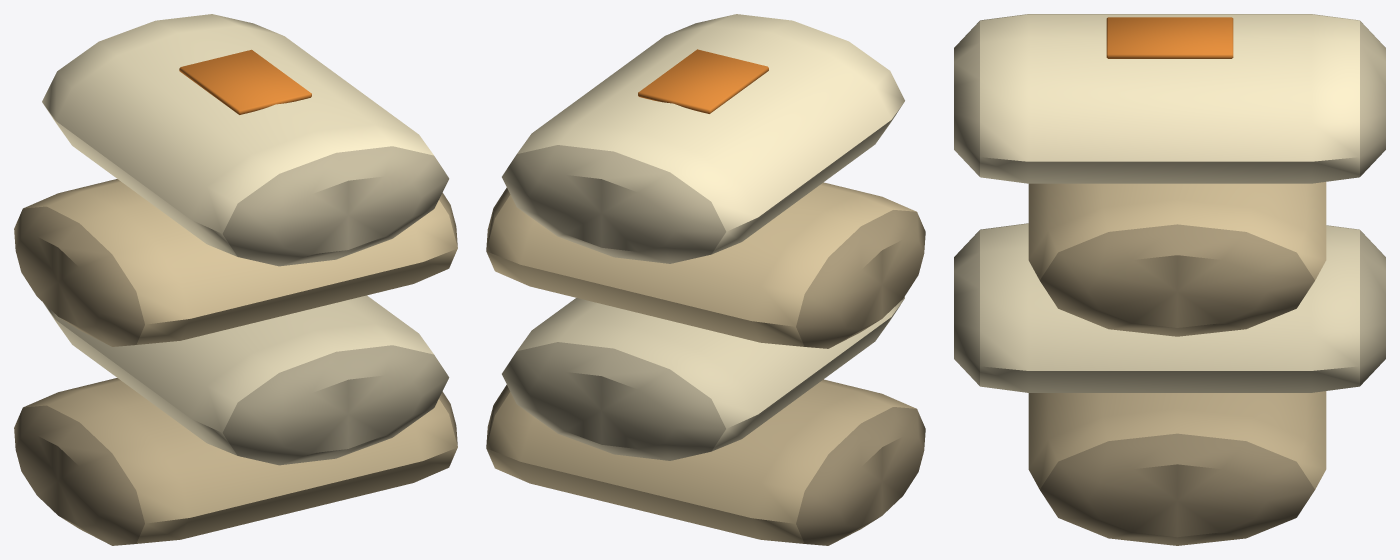
The model's file is SM_Sack_Stack_01.glb.
The picture shows the model from 3 angles, left to right: view 1: azimuth 30°, elevation 25°; view 2: azimuth 150°, elevation 25°; view 3: azimuth 270°, elevation 25°; orthographic projection. The views are drawn at different scales.
Parts seen in each view (by area): view 1: SM_Sack_Stack_01; view 2: SM_Sack_Stack_01; view 3: SM_Sack_Stack_01.
Boxes of the visible parts, x1=… form: SM_Sack_Stack_01: x1=14, y1=14, x2=457, y2=545; SM_Sack_Stack_01: x1=486, y1=14, x2=925, y2=545; SM_Sack_Stack_01: x1=954, y1=14, x2=1385, y2=545.
Size of the model in its own units: 0.58 by 0.649 by 0.58.
1 material, 1 textured.
